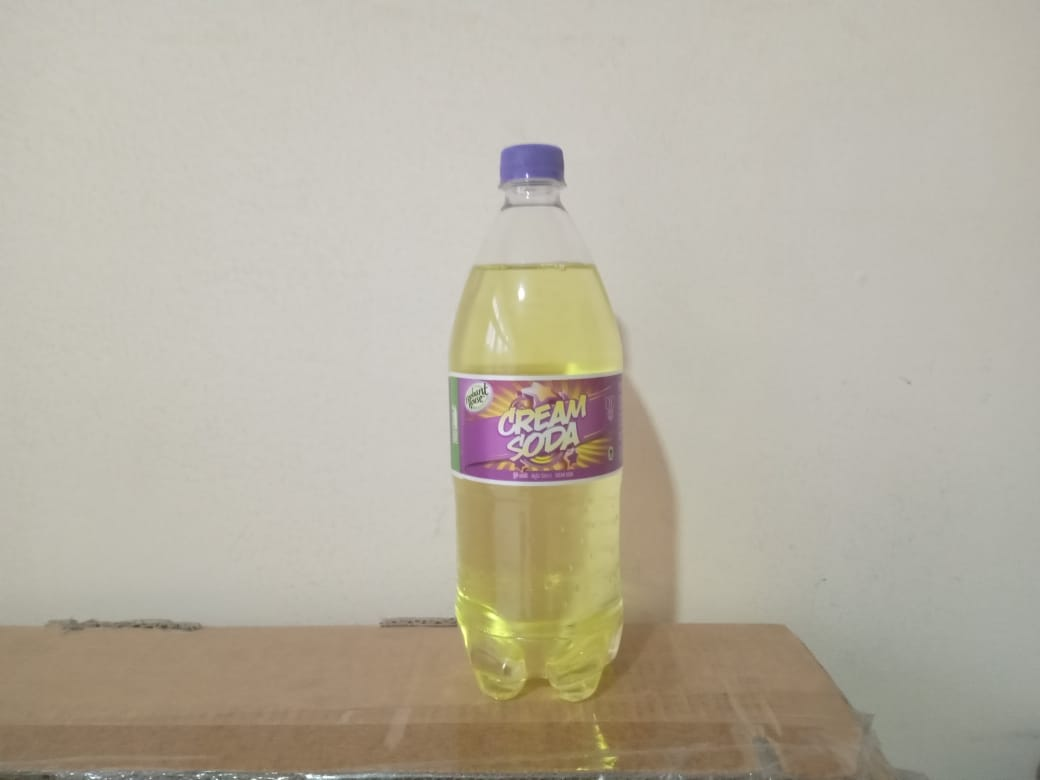L: (442, 132, 633, 718)
